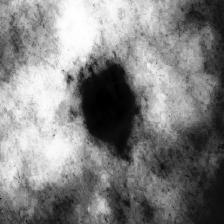Benign Marking or Mole: (82, 67, 137, 152)
